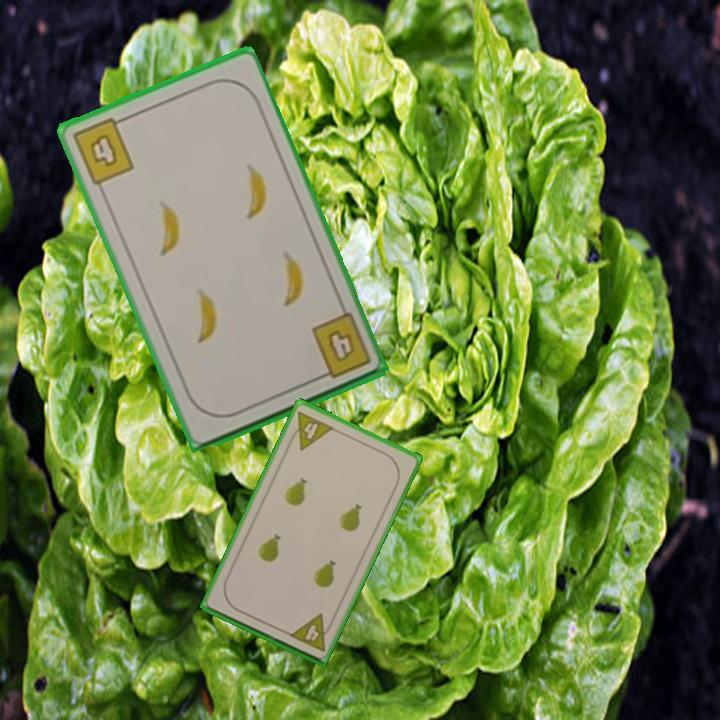4b: (68, 113, 137, 188), (307, 309, 374, 383)
4p: (284, 407, 337, 453), (285, 610, 336, 654)
